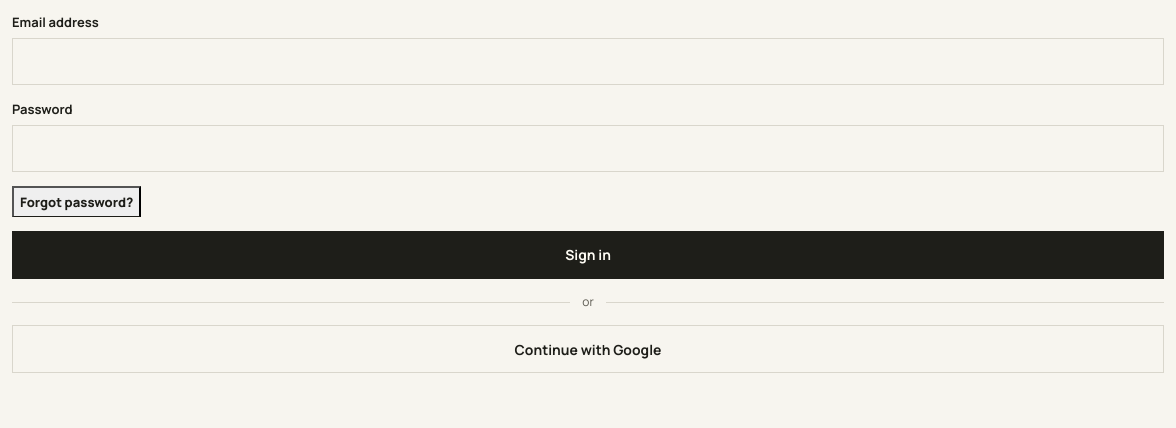
Scenario: password recovery works without entering a password and keeps account existence private
The width and height of the screenshot is (1176, 428).
Click the button "Forgot password?". click: (77,201)
box: [12,186,141,217]
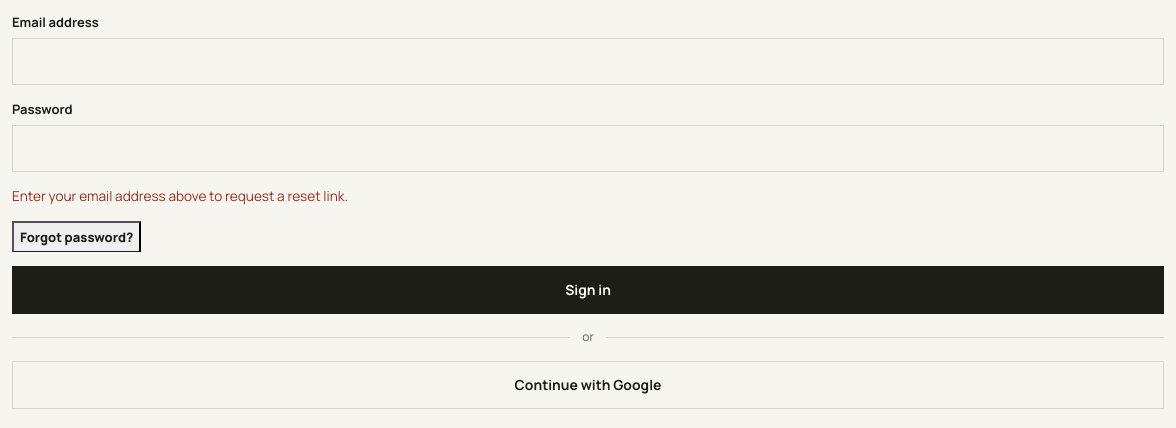
Now the message shows "Enter your email address", box [12,187,348,205]
Type "shopper@example.test" into the field labelled "Email address". click: (588,62)
box: [12,38,1164,85]
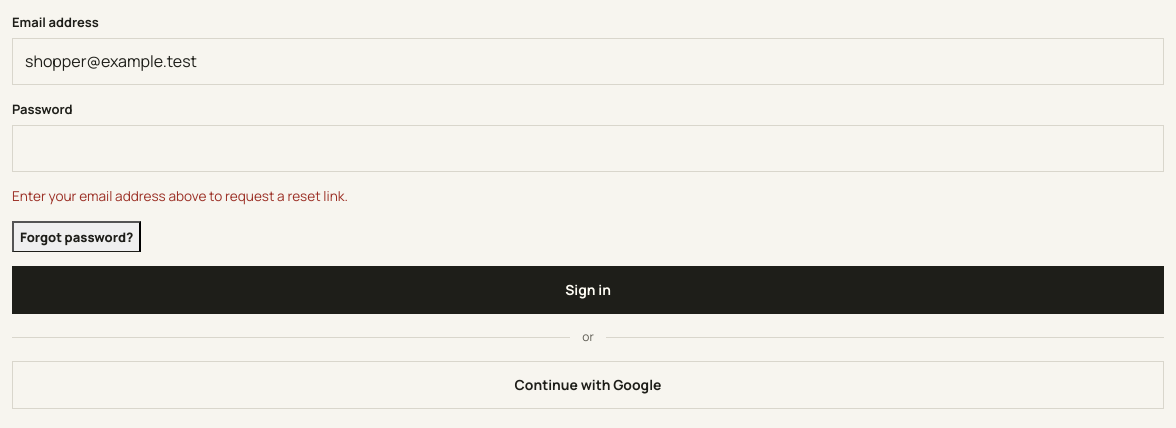
Click the button "Forgot password?". click: (77,236)
box: [12,221,141,252]
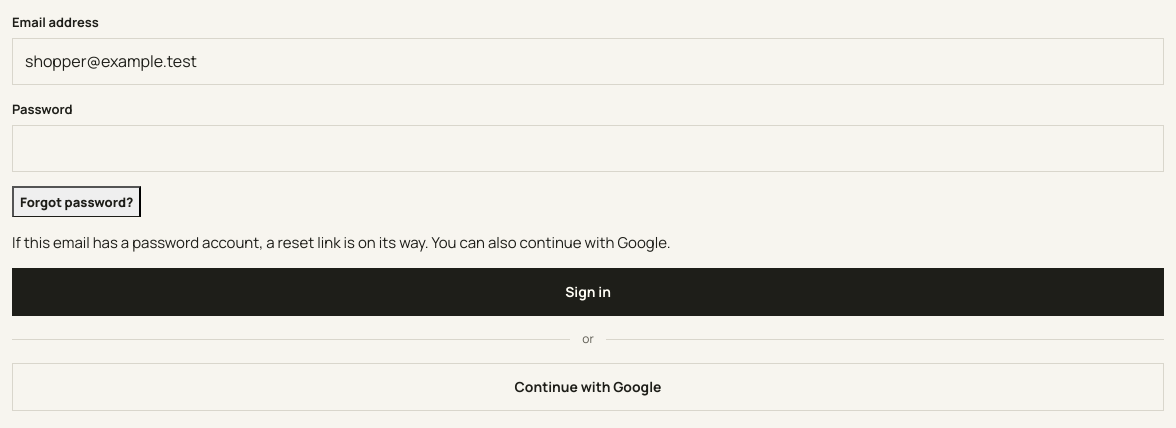
Now the message shows "If this email has a password account", box [12,232,670,253]
